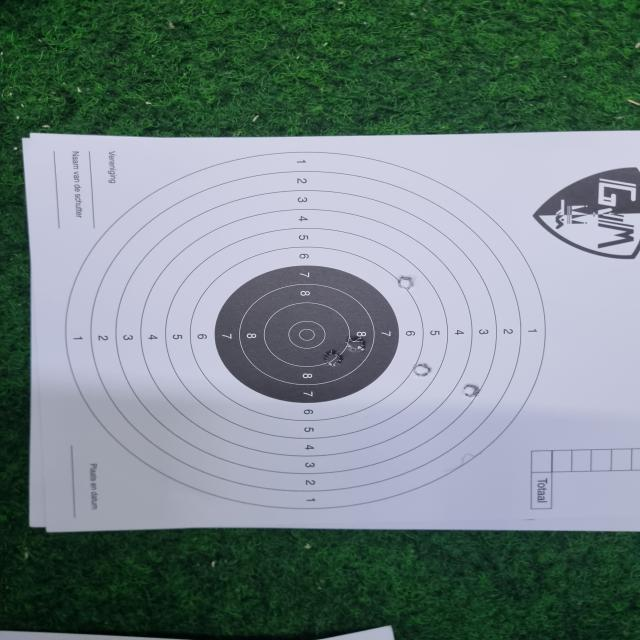3: (464, 385, 480, 397)
5: (413, 364, 432, 377)
6: (398, 275, 414, 290)
9: (323, 350, 342, 366), (346, 336, 365, 352)
Target: (61, 152, 546, 510)
black_contour: (216, 265, 398, 403)
